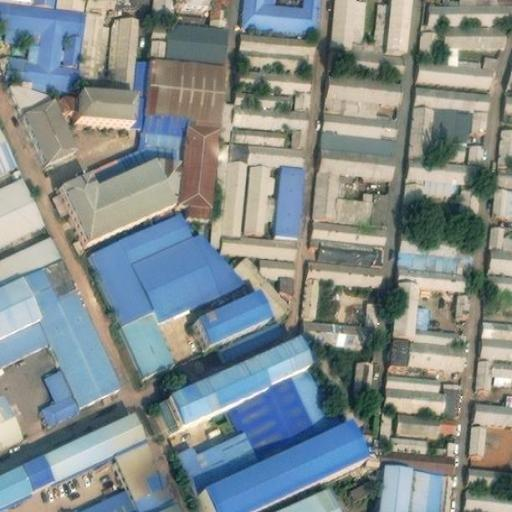building: (0, 260, 117, 405), (194, 421, 358, 512), (162, 336, 306, 429), (88, 205, 193, 317), (220, 369, 332, 466), (131, 227, 245, 315), (64, 151, 177, 234), (144, 54, 229, 113), (105, 441, 174, 512), (177, 431, 246, 490), (193, 292, 267, 346), (179, 111, 221, 202), (120, 303, 176, 371), (233, 251, 292, 312), (25, 90, 77, 155), (220, 313, 288, 356), (0, 170, 42, 236), (166, 16, 229, 59), (325, 67, 404, 99), (317, 141, 396, 173), (415, 75, 490, 106), (79, 1, 113, 69), (321, 105, 398, 133), (39, 366, 78, 421), (421, 16, 506, 41), (222, 153, 250, 228), (417, 53, 491, 81), (220, 226, 296, 253), (300, 312, 366, 343), (109, 10, 139, 78), (94, 143, 157, 175), (274, 156, 301, 230), (245, 154, 271, 229), (407, 331, 467, 363), (343, 43, 407, 73), (405, 152, 471, 181), (313, 212, 386, 238), (307, 252, 377, 279), (319, 125, 395, 149), (74, 87, 130, 119), (238, 28, 315, 50), (403, 176, 461, 204), (233, 100, 309, 121), (140, 109, 184, 145), (397, 260, 467, 282), (266, 488, 330, 512), (238, 64, 310, 85), (407, 100, 435, 154), (394, 277, 420, 332), (400, 225, 459, 249), (384, 381, 443, 403), (433, 101, 473, 133), (9, 73, 51, 103), (377, 458, 400, 512), (312, 165, 338, 212), (320, 238, 378, 259), (399, 245, 459, 265), (395, 407, 440, 433), (244, 138, 305, 157), (334, 189, 373, 218), (323, 91, 379, 111), (75, 492, 129, 512), (408, 461, 429, 512), (390, 367, 445, 386), (244, 44, 298, 63), (133, 54, 148, 122), (232, 121, 284, 140), (466, 491, 512, 512), (431, 130, 467, 156), (354, 355, 378, 393), (469, 462, 512, 483), (424, 467, 444, 512), (395, 459, 413, 508), (302, 272, 322, 314), (312, 231, 376, 244), (344, 475, 376, 501), (497, 125, 512, 174), (257, 251, 296, 269), (390, 429, 428, 447), (371, 185, 390, 219), (220, 96, 234, 137), (416, 320, 454, 335), (381, 399, 397, 433), (456, 287, 474, 317), (474, 355, 493, 383), (471, 419, 487, 451), (459, 181, 480, 205), (392, 330, 409, 358), (442, 380, 461, 405), (465, 138, 488, 158), (495, 183, 512, 209), (471, 104, 488, 129), (485, 50, 501, 76), (151, 31, 167, 55), (366, 296, 381, 320), (439, 410, 458, 428), (290, 120, 306, 141), (294, 84, 310, 104), (489, 219, 504, 240), (152, 15, 168, 32), (280, 268, 294, 286), (417, 300, 429, 321), (493, 356, 512, 368), (447, 40, 461, 56), (189, 201, 209, 212), (391, 357, 411, 368)
